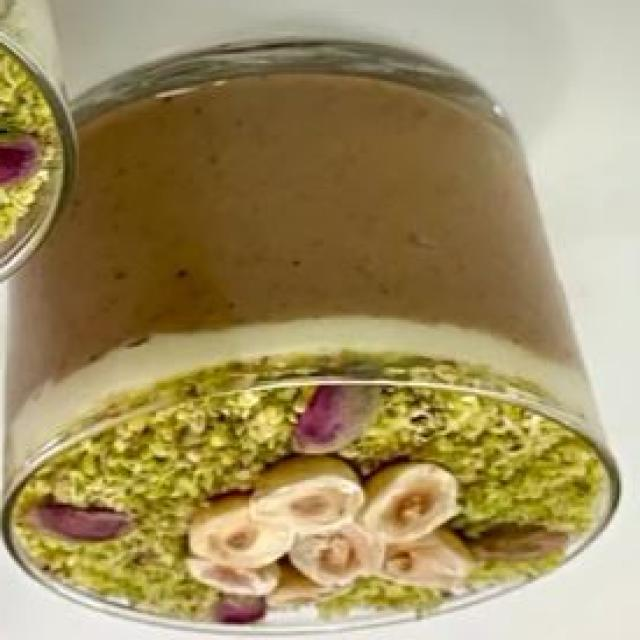asida-zkoukou: (9, 37, 608, 632)
